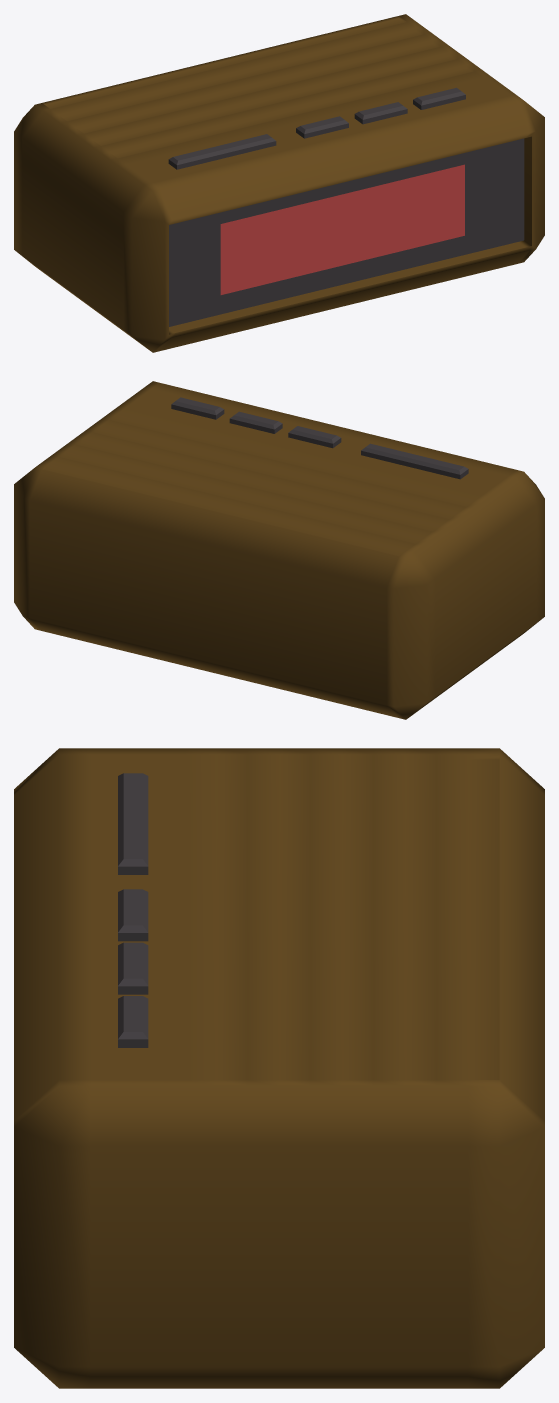
File: RelogioDigital.fbx
3 renders of one model, top to bottom at view 1: azimuth 30°, elevation 25°; view 2: azimuth 150°, elevation 25°; view 3: azimuth 270°, elevation 25°, orthographic. The views are drawn at different scales.
Visible parts, largest first — view 1: Cube, Cube.005, Cube.006, Cube.004, Cube.002, Cube.001, Cube.003; view 2: Cube, Cube.004, Cube.001, Cube.002, Cube.003; view 3: Cube, Cube.004, Cube.003, Cube.002, Cube.001.
Boxes of the visible parts, x1,y1,x2,y2 form: Cube: [14, 14, 544, 352]; Cube.005: [169, 138, 524, 326]; Cube.006: [220, 164, 464, 294]; Cube.004: [168, 134, 276, 169]; Cube.002: [354, 102, 407, 124]; Cube.001: [413, 87, 465, 109]; Cube.003: [296, 116, 348, 138]; Cube: [14, 381, 544, 719]; Cube.004: [361, 443, 468, 479]; Cube.001: [171, 397, 224, 419]; Cube.002: [229, 411, 282, 433]; Cube.003: [288, 426, 341, 448]; Cube: [14, 748, 544, 1388]; Cube.004: [118, 773, 148, 874]; Cube.003: [118, 889, 148, 941]; Cube.002: [118, 942, 148, 994]; Cube.001: [118, 996, 148, 1047].
Bounding box in the file's own units: 57.08 × 22.34 × 34.04.
